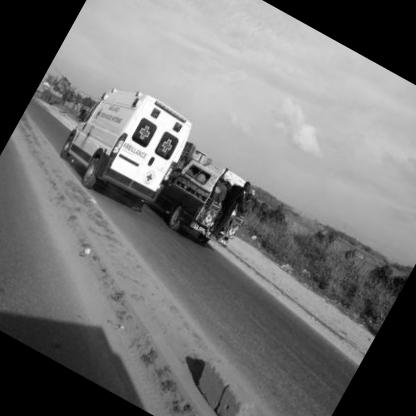ambulance: (51, 67, 211, 229)
